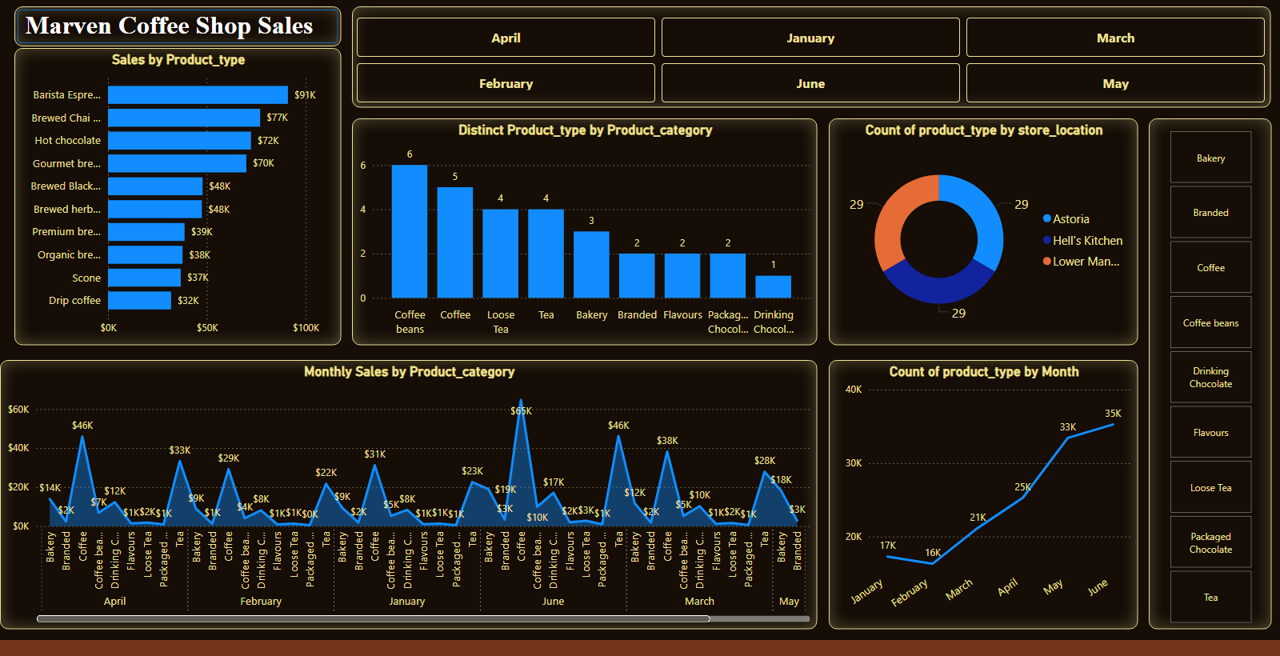

Layout of this report page (visuals, bound fields, positions):
{"tool":"powerbi","page":{"name":"Sales dashboard (product type analysis)","canvas":[1600,800],"ordinal":1},"visuals":[{"type":"textbox","box":[18.3,8.3,386.7,50],"z":0},{"type":"advancedSlicerVisual","fields":{"Values":["Coffee Shop Sales1.Month"]},"box":[440,8.3,1148.3,126.7],"z":1000},{"type":"areaChart","title":"Monthly Sales by Product_category","fields":{"Category":["Coffee Shop Sales1.Month","Coffee Shop Sales1.product_category"],"Y":["Sum(Coffee Shop Sales1.Sales)"]},"box":[0,450,1021.7,336.7],"z":2000},{"type":"donutChart","fields":{"Category":["Coffee Shop Sales1.store_location"],"Y":["Count(Coffee Shop Sales1.product_type)"]},"box":[1035,148.3,386.7,283.3],"z":3000},{"type":"clusteredColumnChart","title":"Distinct Product_type by Product_category","fields":{"Category":["Coffee Shop Sales1.product_category"],"Y":["Count(Coffee Shop Sales1.product_type)"]},"box":[440,148.3,581.7,283.3],"z":4000},{"type":"clusteredBarChart","title":"Sales by Product_type","fields":{"Category":["Coffee Shop Sales1.product_type"],"Y":["Sum(Coffee Shop Sales1.Sales)"]},"box":[18.3,60,408.3,371.7],"z":5000},{"type":"lineChart","fields":{"Category":["Coffee Shop Sales1.transaction_date.Variation.Date Hierarchy.Month"],"Y":["CountNonNull(Coffee Shop Sales1.product_type)"]},"box":[1035,450,386.7,336.7],"z":6000},{"type":"slicer","fields":{"Values":["Coffee Shop Sales1.product_category"]},"box":[1435,148.3,153.3,638.3],"z":7000},{"type":"shape","box":[18.3,8.3,408.3,50],"z":8000}]}

Visuals, with their boxes in screenshot pixels (x1, y1, x2, y2), scaled from the page's 1600x800 canvas onto the 1280x656 screenshot:
textbox: box=[15, 7, 324, 48]
advancedSlicerVisual - Coffee Shop Sales1.Month: box=[352, 7, 1271, 111]
"Monthly Sales by Product_category" areaChart: box=[0, 369, 817, 645]
donutChart - Coffee Shop Sales1.store_location x Count(Coffee Shop Sales1.product_type): box=[828, 122, 1137, 354]
"Distinct Product_type by Product_category" clusteredColumnChart: box=[352, 122, 817, 354]
"Sales by Product_type" clusteredBarChart: box=[15, 49, 341, 354]
lineChart - Coffee Shop Sales1.transaction_date.Variation.Date Hierarchy.Month x CountNonNull(Coffee Shop Sales1.product_type): box=[828, 369, 1137, 645]
slicer - Coffee Shop Sales1.product_category: box=[1148, 122, 1271, 645]
shape: box=[15, 7, 341, 48]
